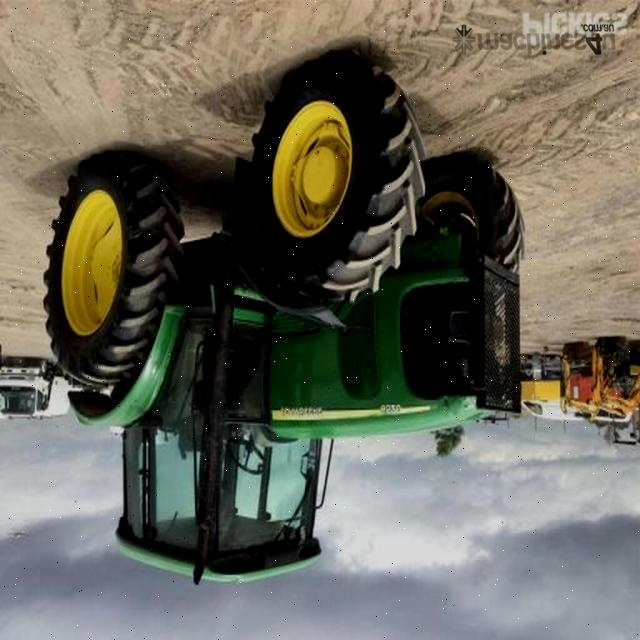Tratores - v5 YOLO V8L 2024-11-13: (34, 41, 530, 596)
